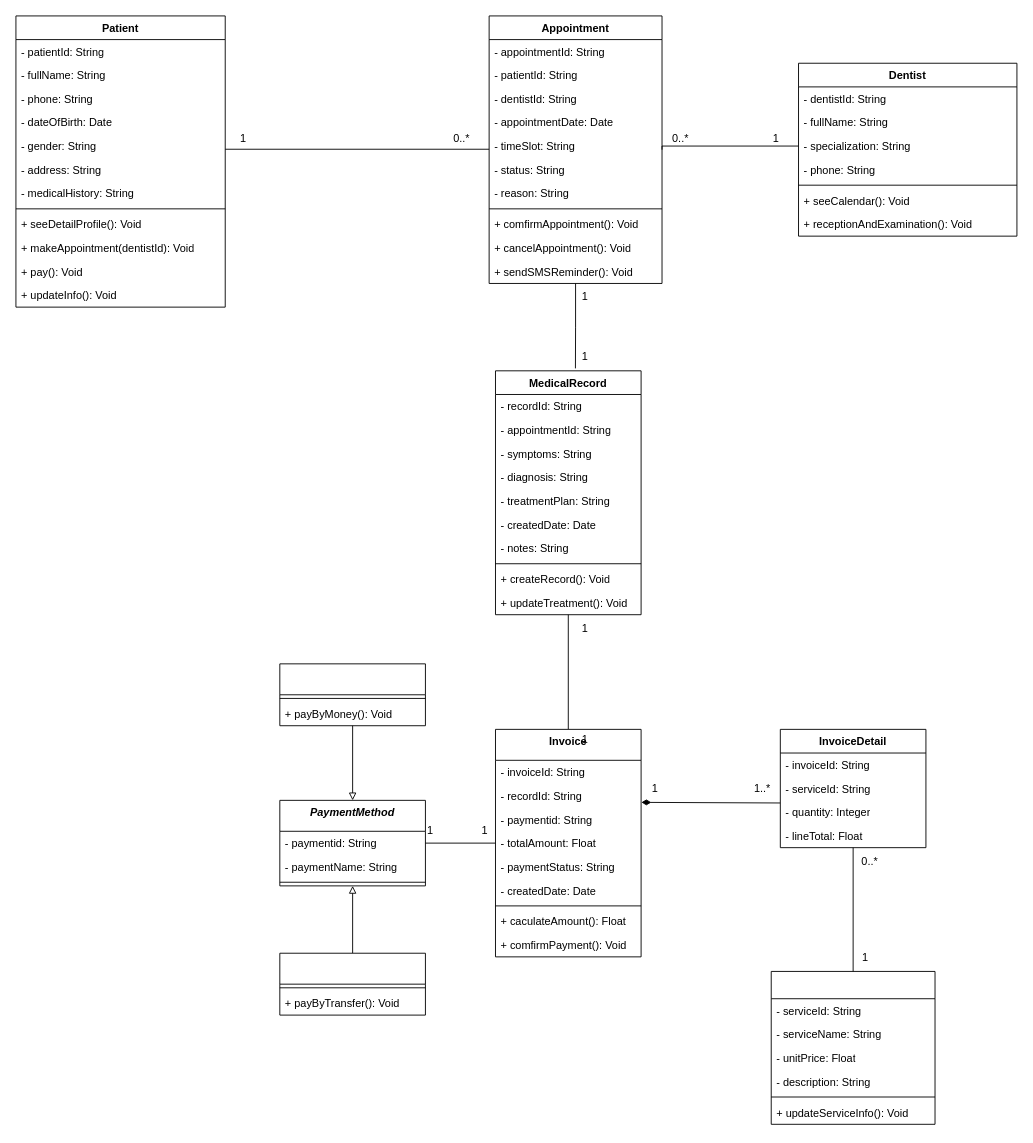
Image size: 1033x1143. Some labels were removed from this diagram. Here are the shapes that lost their labels. From the top down, the box of each, then its label:
(279, 663, 425, 726): CashPayment
(279, 952, 425, 1015): TransferPayment
(770, 971, 935, 1124): DentalService
